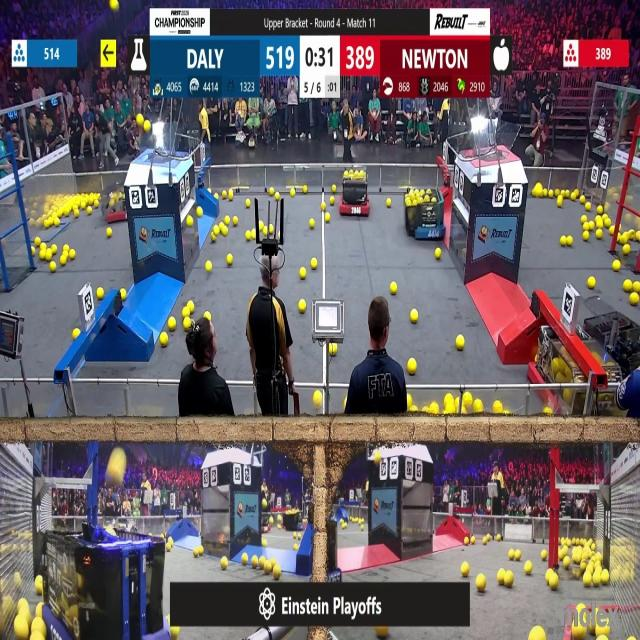ball_airborne: (109, 450, 125, 481), (373, 447, 380, 461), (136, 114, 144, 125), (143, 120, 150, 131), (109, 0, 117, 9)
ball_ground: (530, 628, 544, 640), (478, 576, 487, 593), (503, 570, 512, 587), (313, 391, 322, 408), (378, 626, 389, 639), (409, 358, 418, 373), (462, 392, 472, 405), (36, 578, 43, 596), (550, 574, 558, 589), (472, 399, 481, 412), (456, 337, 464, 351), (274, 565, 282, 579), (461, 562, 469, 576), (601, 570, 609, 584), (594, 572, 602, 586), (171, 627, 180, 639), (630, 291, 638, 304), (494, 400, 502, 413), (584, 573, 592, 586), (497, 570, 504, 584), (162, 334, 169, 347), (412, 310, 419, 323), (298, 301, 305, 314), (525, 562, 532, 575), (624, 281, 632, 292), (187, 303, 195, 314), (434, 248, 441, 260), (169, 318, 176, 330), (390, 282, 397, 294), (311, 257, 318, 269), (534, 183, 541, 195), (596, 216, 603, 228), (614, 262, 622, 272), (72, 328, 80, 338), (589, 278, 596, 289), (186, 216, 193, 227), (220, 558, 227, 569), (299, 268, 305, 280), (98, 288, 104, 300), (120, 288, 126, 300), (183, 318, 189, 330), (69, 250, 76, 260), (61, 255, 68, 265), (182, 308, 189, 318), (328, 344, 335, 354), (194, 545, 201, 555), (589, 220, 596, 230), (226, 253, 232, 264), (624, 244, 630, 255), (564, 558, 570, 569), (242, 554, 248, 565), (36, 604, 42, 615), (408, 395, 413, 408), (507, 551, 514, 560), (539, 552, 546, 561), (403, 199, 410, 208), (50, 264, 56, 274), (596, 230, 602, 240), (206, 263, 212, 273), (584, 232, 590, 242), (560, 236, 566, 246), (516, 551, 522, 561), (252, 557, 258, 567), (557, 198, 563, 208), (566, 236, 572, 246), (221, 225, 227, 235), (39, 250, 45, 260), (634, 282, 640, 292), (310, 218, 316, 228), (258, 557, 264, 567), (603, 217, 609, 227), (45, 251, 51, 261), (578, 562, 584, 572), (542, 188, 549, 196), (579, 215, 586, 223), (596, 207, 603, 215), (618, 234, 623, 245), (88, 206, 94, 215), (34, 238, 40, 247), (195, 208, 201, 217), (264, 224, 270, 233), (270, 224, 276, 233), (53, 243, 58, 253), (258, 220, 263, 230), (94, 202, 101, 209), (205, 312, 211, 320), (227, 190, 233, 198), (469, 536, 475, 544), (570, 191, 576, 199), (234, 216, 239, 225), (324, 213, 329, 222), (244, 230, 249, 239), (74, 209, 79, 218), (64, 246, 69, 255), (214, 224, 219, 233), (543, 410, 549, 417), (260, 539, 266, 546), (293, 543, 299, 550), (107, 230, 112, 238), (387, 200, 392, 208), (321, 203, 326, 211), (252, 231, 256, 241), (586, 204, 591, 212), (609, 226, 614, 234), (584, 222, 589, 230), (304, 185, 309, 193), (483, 536, 488, 544), (579, 197, 584, 205), (80, 202, 85, 210), (56, 218, 61, 226), (276, 190, 280, 199), (32, 247, 36, 256), (636, 233, 640, 242), (290, 189, 295, 196), (212, 235, 217, 242), (329, 199, 334, 206), (464, 536, 468, 544), (224, 216, 228, 224), (244, 201, 248, 209), (497, 534, 501, 542), (331, 184, 335, 191), (214, 195, 218, 201)
goal: (464, 120, 522, 160), (125, 127, 187, 159)
robot_blue: (41, 529, 145, 640), (404, 188, 444, 240), (282, 510, 305, 532)
robot_red: (532, 341, 589, 412), (340, 165, 371, 215), (104, 188, 127, 223)
